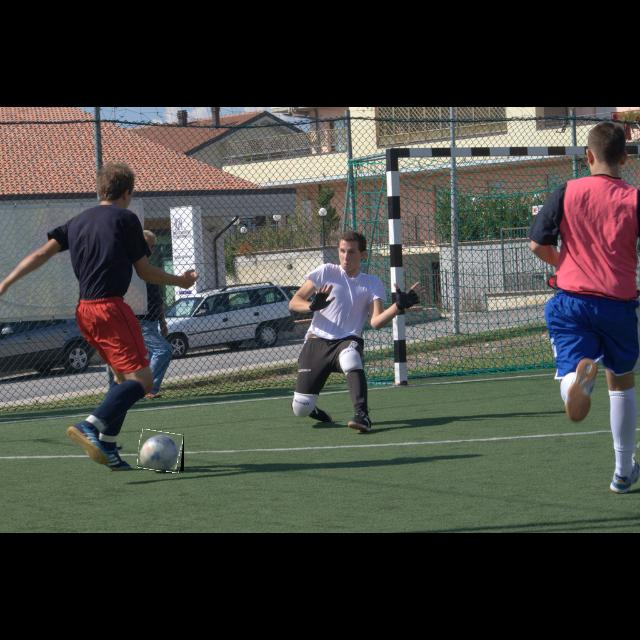Football: (138, 431, 184, 471)
